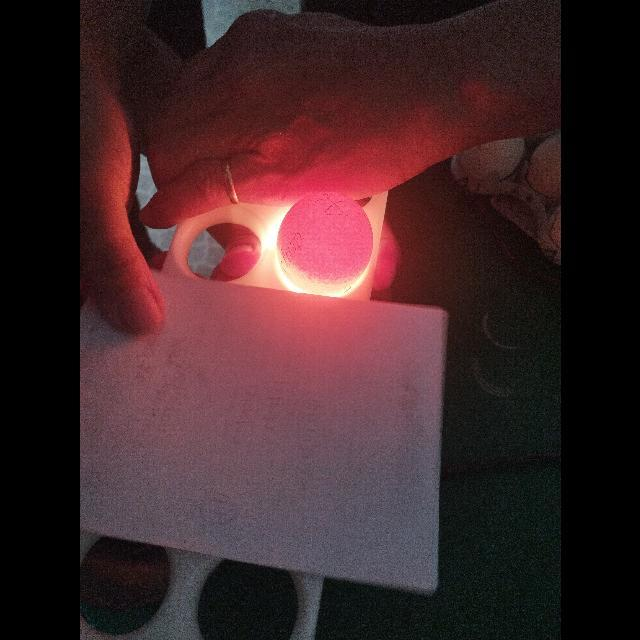Infertile: (280, 196, 370, 286)
